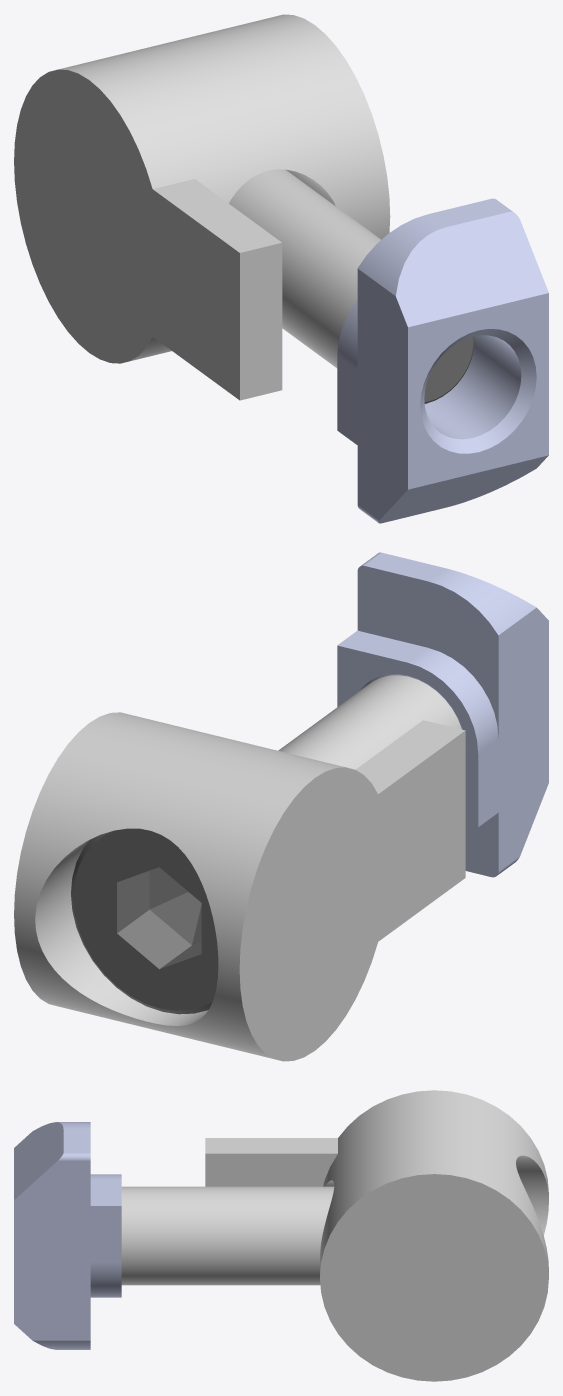
Rendered from TPGR-TPGR-4010-D9-ZP.glb.
3 renders of one model, top to bottom at view 1: azimuth 30°, elevation 25°; view 2: azimuth 150°, elevation 25°; view 3: azimuth 270°, elevation 25°, orthographic. The views are drawn at different scales.
Visible parts, largest first — view 1: NAUO1, NAUO3, NAUO2; view 2: NAUO1, NAUO3, NAUO2; view 3: NAUO1, NAUO3, NAUO2.
Boxes of the visible parts, left/top/right/bottom form: NAUO1: left=14, top=14, right=390, bottom=400; NAUO3: left=337, top=198, right=548, bottom=523; NAUO2: left=229, top=169, right=474, bottom=403; NAUO1: left=14, top=712, right=465, bottom=1061; NAUO3: left=337, top=552, right=548, bottom=877; NAUO2: left=71, top=675, right=461, bottom=1014; NAUO1: left=205, top=1090, right=548, bottom=1381; NAUO3: left=14, top=1122, right=121, bottom=1349; NAUO2: left=121, top=1186, right=334, bottom=1285.
Size of the model in its own units: 0.016 by 0.019 by 0.0432.
